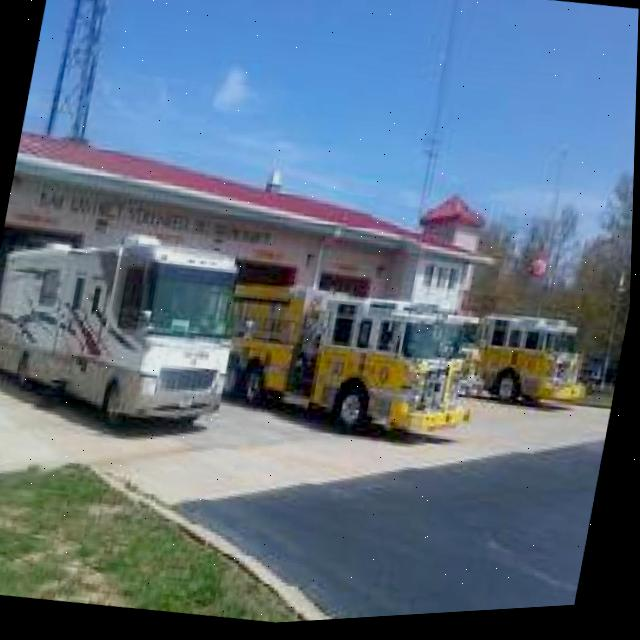emergency: (183, 263, 498, 472), (412, 300, 603, 429)
